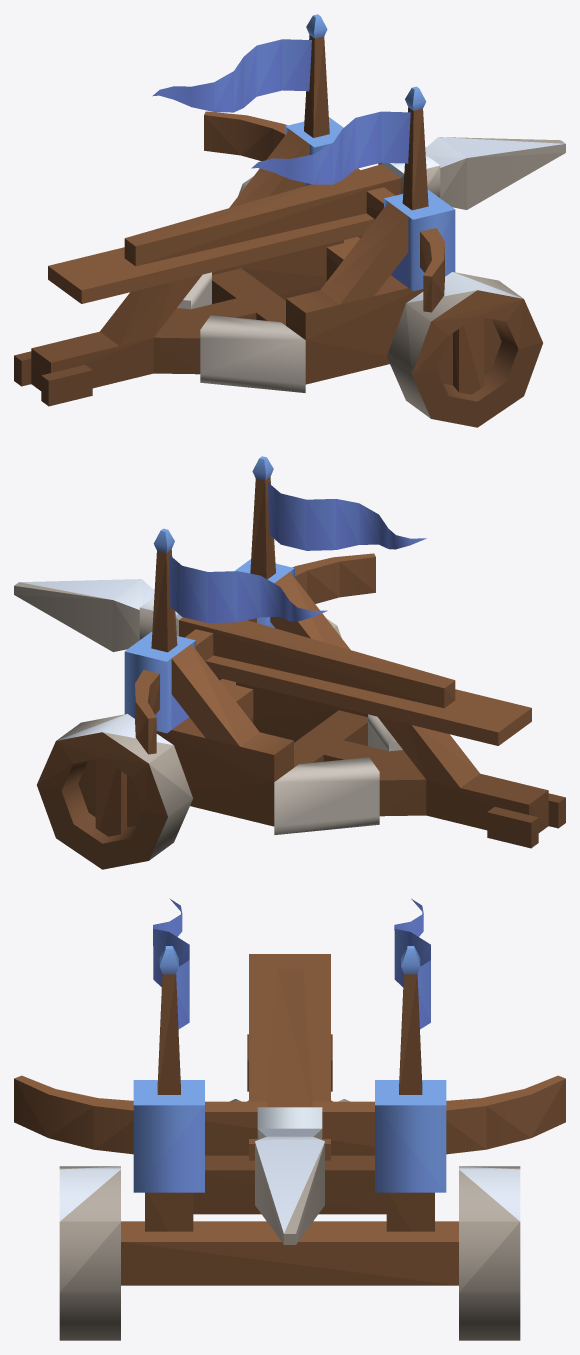
Rendered from kenney_castle_siege_ballista.glb.
3 views of the same model, one above another, from view 1: azimuth 30°, elevation 25°; view 2: azimuth 150°, elevation 25°; view 3: azimuth 270°, elevation 25° (orthographic). The views are drawn at different scales.
Visible parts, largest first — view 1: wood, cloth, stone; view 2: wood, cloth, stone; view 3: wood, cloth, stone.
Boxes of the visible parts, <box> form: wood: <box>14,35,542,427</box>; cloth: <box>152,14,565,302</box>; stone: <box>177,137,565,418</box>; wood: <box>37,477,565,869</box>; cloth: <box>20,456,426,744</box>; stone: <box>14,582,402,860</box>; wood: <box>14,954,565,1285</box>; cloth: <box>59,898,520,1233</box>; stone: <box>59,1099,520,1340</box>.
Size of the model in its own units: 1.63 by 0.9103 by 1.2.
